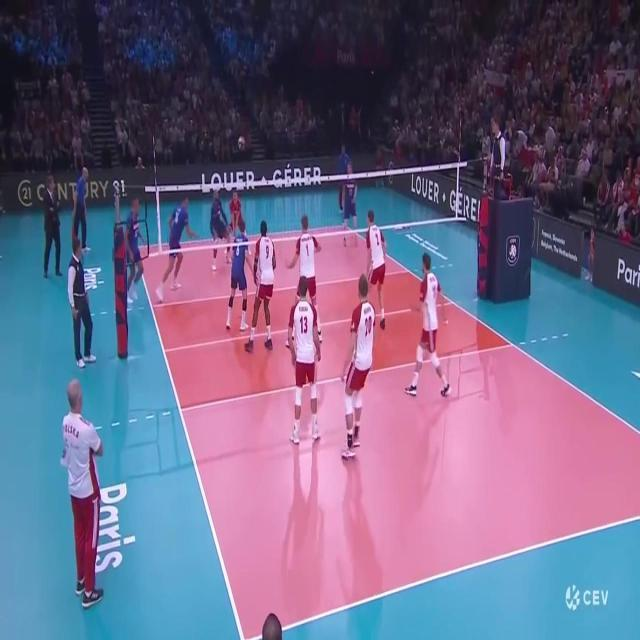volleyball: (237, 136, 246, 151)
